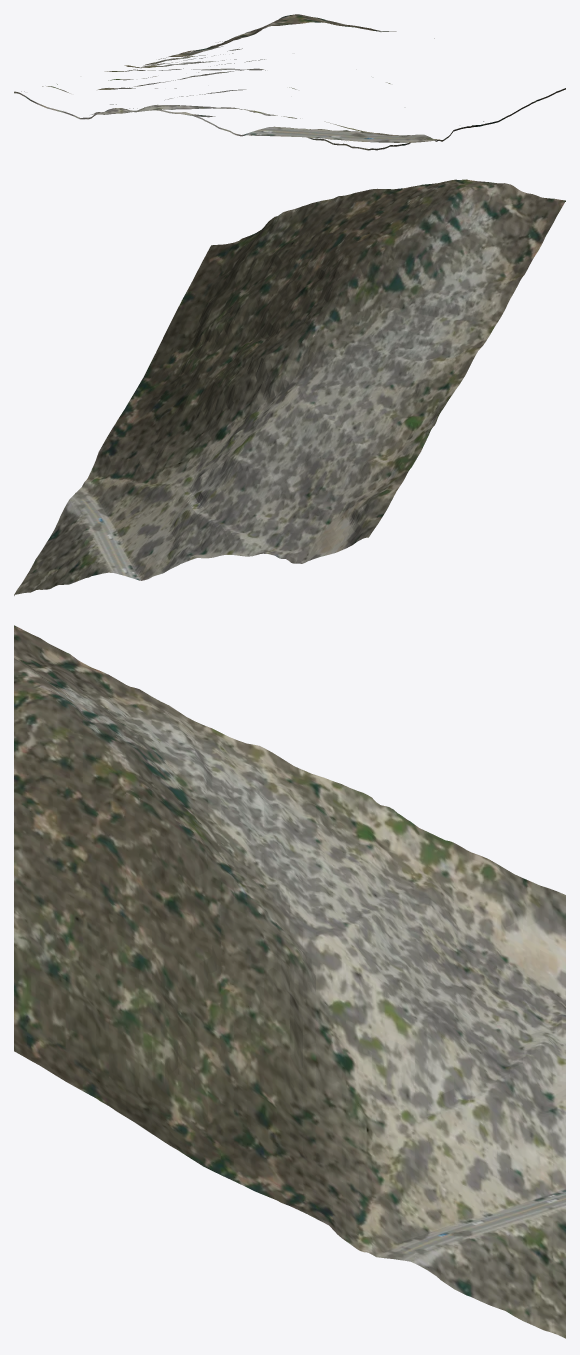
The picture shows the model from 3 angles, top to bottom: view 1: azimuth 30°, elevation 25°; view 2: azimuth 150°, elevation 25°; view 3: azimuth 270°, elevation 25°; orthographic projection. The views are drawn at different scales.
Bounding box in the file's own units: 250 × 229 × 241.
1 material, 1 textured.
